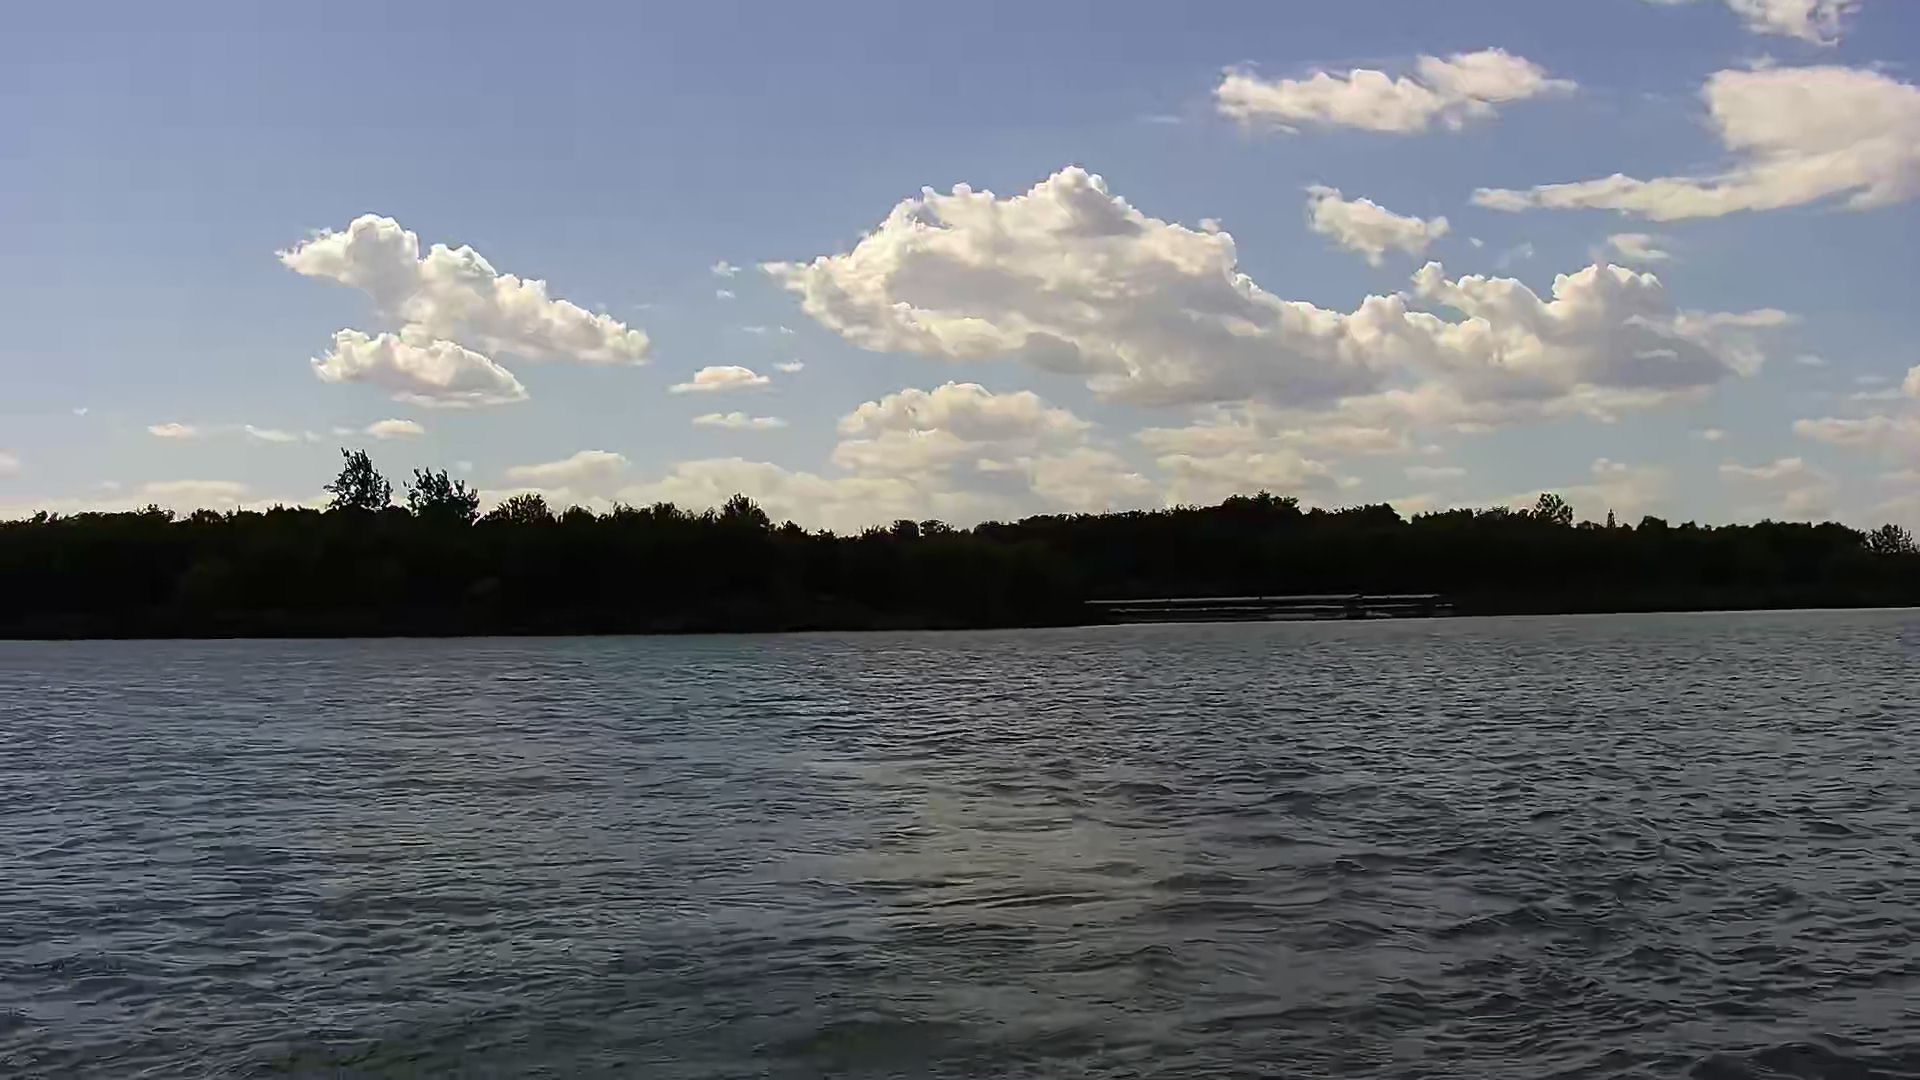harbor: (1088, 593, 1451, 622)
